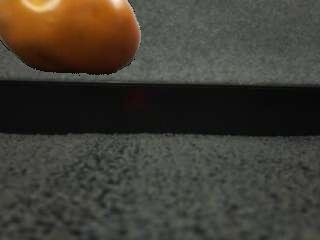Potato: (0, 0, 141, 79)
